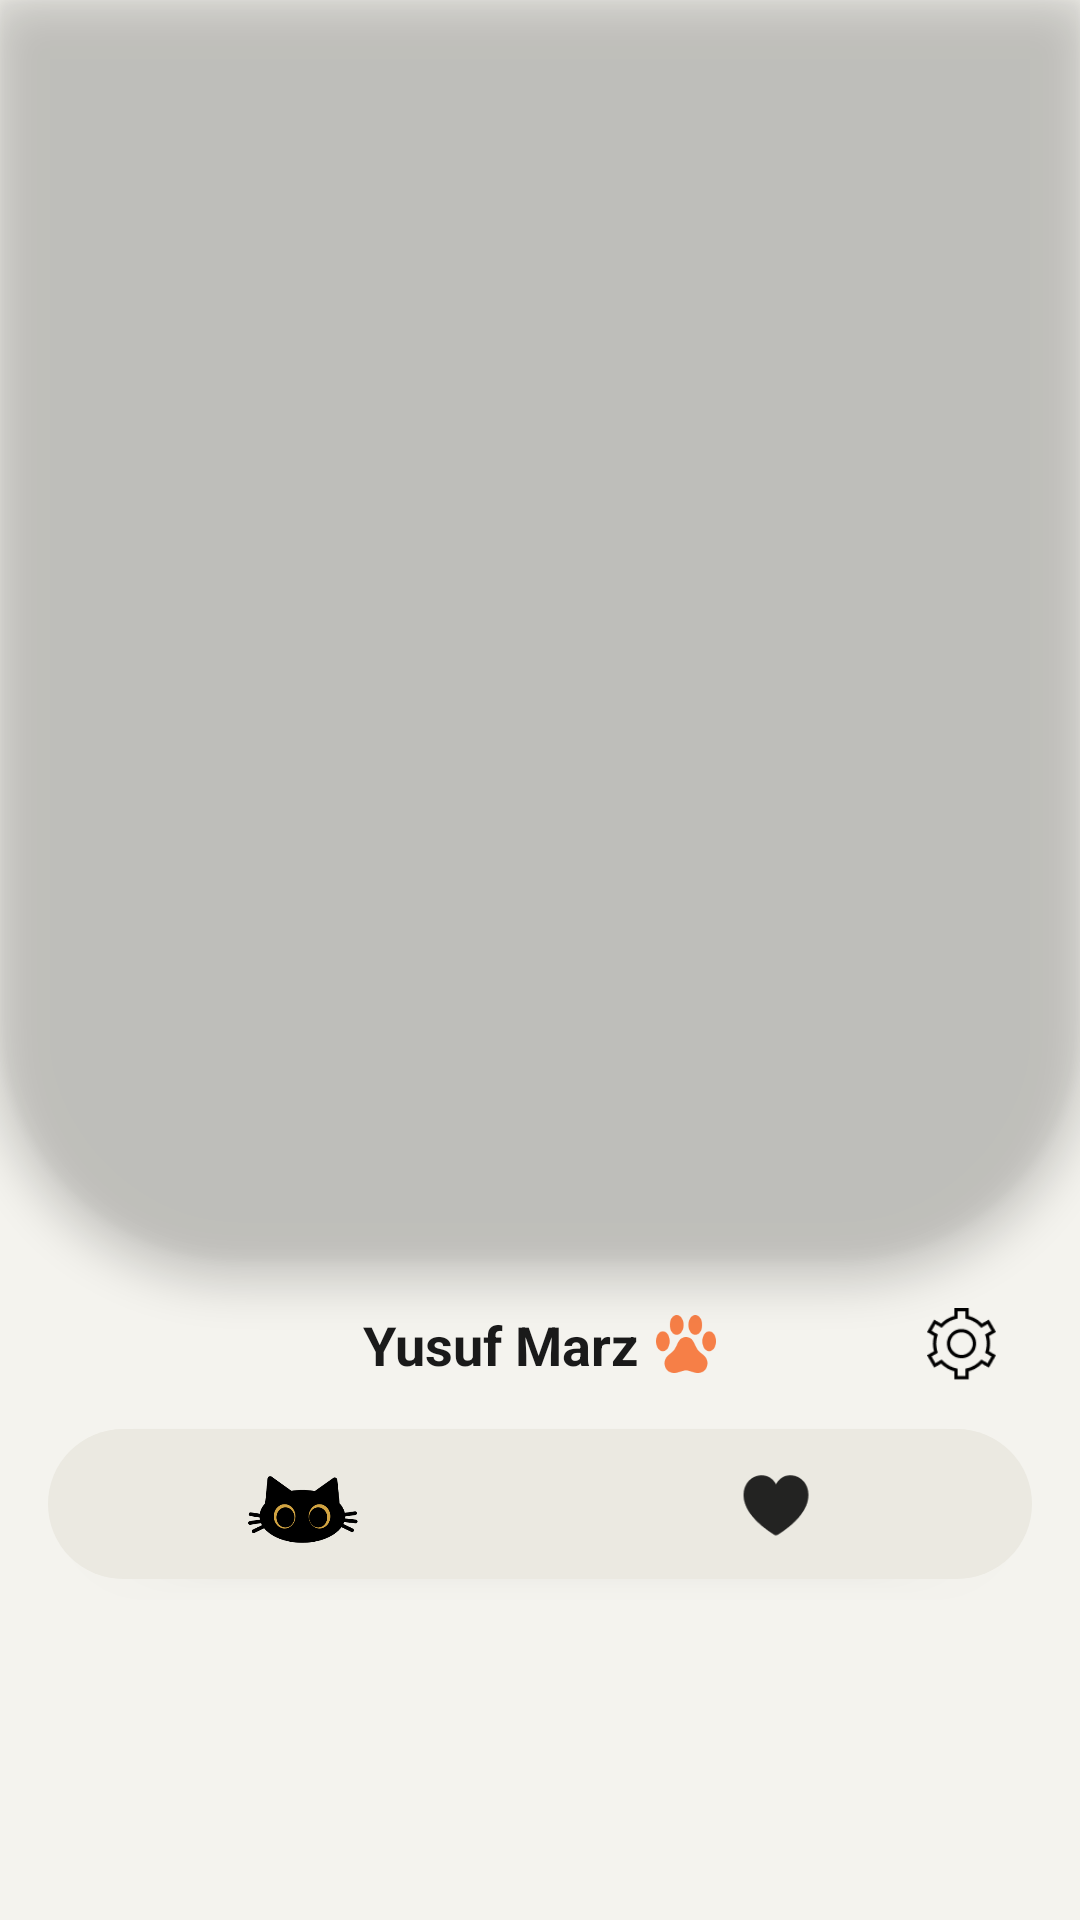

Screen size 1080×1920. Icon name, then its box in pixels as {"left": x1, "top": y1, "right": x2, "bottom": y2}:
cat: {"left": 248, "top": 1476, "right": 358, "bottom": 1543}
fav: {"left": 743, "top": 1475, "right": 809, "bottom": 1536}
paw: {"left": 656, "top": 1315, "right": 716, "bottom": 1373}
setting: {"left": 927, "top": 1308, "right": 996, "bottom": 1380}
